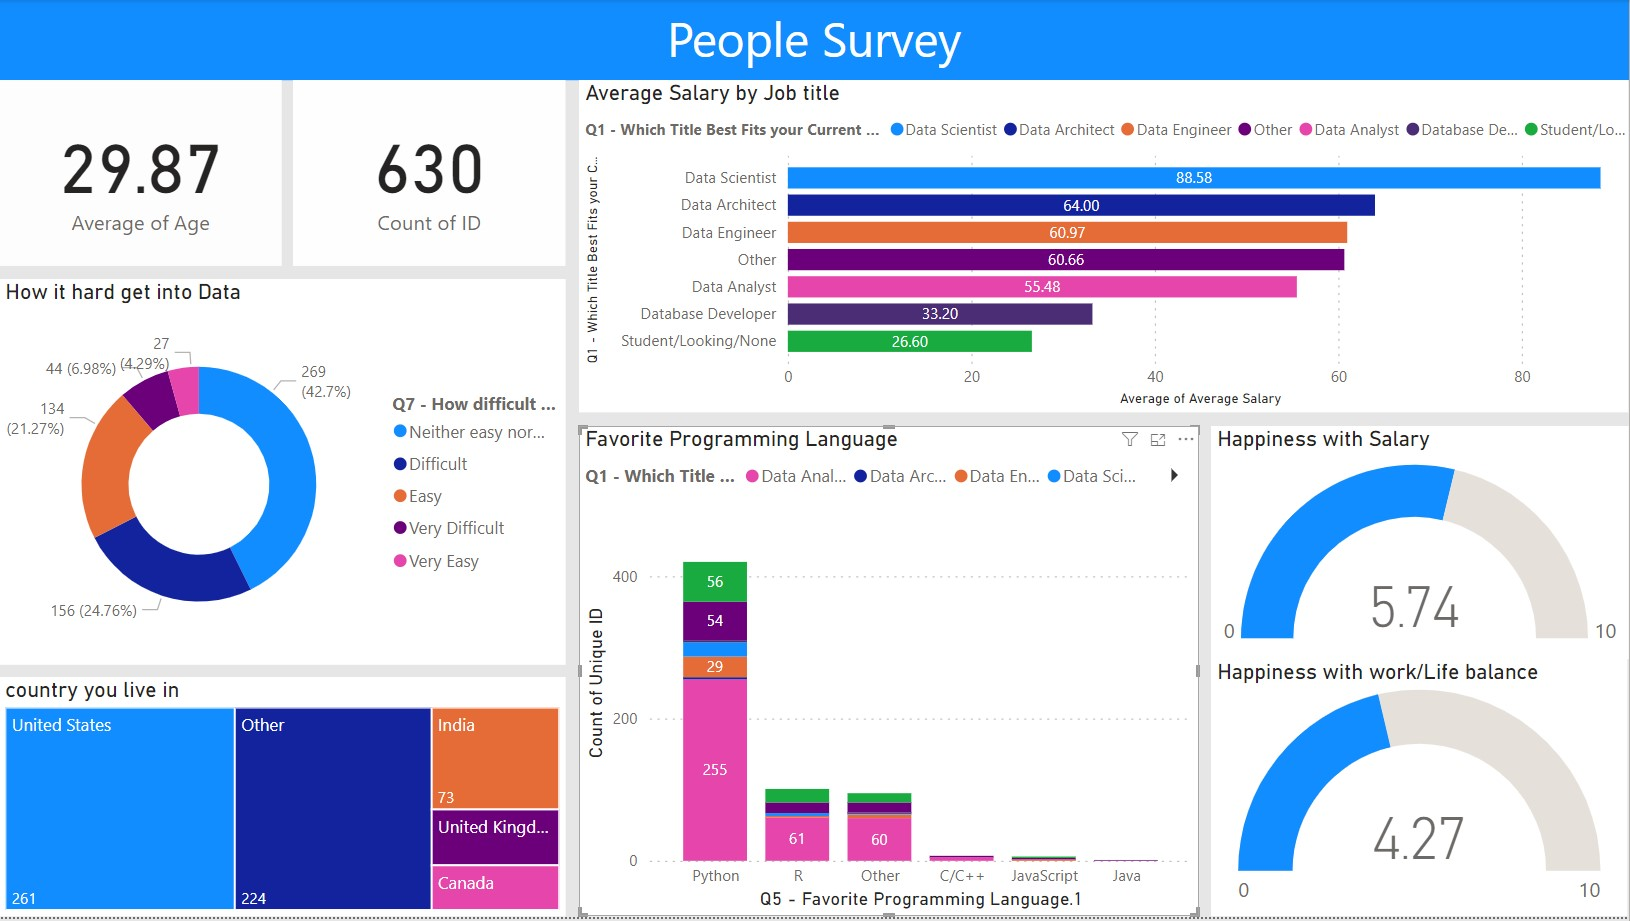

This screenshot's page, from the dashboard's own definition file:
{"tool":"powerbi","page":{"name":"Page 1","canvas":[1280,720],"ordinal":0},"visuals":[{"type":"textbox","box":[0,0,1280,63],"z":0},{"type":"card","fields":{"Values":["Avg(Data Professional Survey.Q10 - Current Age)"]},"box":[0,63,222.5,146.3],"z":1000},{"type":"card","fields":{"Values":["Count(Data Professional Survey.Unique ID)"]},"box":[230.8,63,214.1,146.3],"z":2000},{"type":"barChart","title":"Average Salary by Job title","fields":{"Category":["Data Professional Survey.Q1 - Which Title Best Fits your Current Role?.1"],"Series":["Data Professional Survey.Q1 - Which Title Best Fits your Current Role?.1"],"Y":["Avg(Data Professional Survey.Average Salary)"]},"box":[455.6,63,824.4,260.5],"z":3000},{"type":"treemap","title":"country you live in","fields":{"Group":["Data Professional Survey.Q11 - Which Country do you live in?.1"],"Values":["CountNonNull(Data Professional Survey.Q11 - Which Country do you live in?.1)"]},"box":[0,531.7,444.9,188],"z":4000},{"type":"gauge","title":"Happiness with Salary","fields":{"Y":["Avg(Data Professional Survey.Q6 - How Happy are you in your Current Position with the following? (Work/Life Balance))"],"MaxValue":["Max(Data Professional Survey.Q6 - How Happy are you in your Current Position with the following? (Work/Life Balance))1"],"MinValue":["Min(Data Professional Survey.Q6 - How Happy are you in your Current Position with the following? (Work/Life Balance))2"]},"box":[951.7,334.3,328.3,183.2],"z":5000},{"type":"gauge","title":"Happiness with work/Life balance","fields":{"Y":["Avg(Data Professional Survey.Q6 - How Happy are you in your Current Position with the following? (Salary))"],"MinValue":["Min(Data Professional Survey.Q6 - How Happy are you in your Current Position with the following? (Salary))"],"MaxValue":["Max(Data Professional Survey.Q6 - How Happy are you in your Current Position with the following? (Salary))"]},"box":[951.7,517.5,327.1,202.2],"z":6000},{"type":"columnChart","title":"Favorite Programming Language","fields":{"Y":["CountNonNull(Data Professional Survey.Unique ID)"],"Category":["Data Professional Survey.Q5 - Favorite Programming Language.1"],"Series":["Data Professional Survey.Q1 - Which Title Best Fits your Current Role?.1"]},"box":[455.5,334.5,486.9,384.8],"z":7000},{"type":"donutChart","title":"How it hard get  into Data","fields":{"Category":["Data Professional Survey.Q7 - How difficult was it for you to break into Data?"],"Y":["CountNonNull(Data Professional Survey.Q7 - How difficult was it for you to break into Data?)"]},"box":[0,218.9,444.9,303.3],"z":8000}]}

Visuals, with their boxes in screenshot pixels (x1, y1, x2, y2), scaled from the page's 1280x720 canvas onto the 1630x921 screenshot:
textbox: 0 0 1629 81
card - Avg(Data Professional Survey.Q10 - Current Age): 0 81 283 268
card - Count(Data Professional Survey.Unique ID): 294 81 567 268
"Average Salary by Job title" barChart: 580 81 1629 414
"country you live in" treemap: 0 680 567 920
"Happiness with Salary" gauge: 1212 428 1629 662
"Happiness with work/Life balance" gauge: 1212 662 1628 920
"Favorite Programming Language" columnChart: 580 428 1200 920
"How it hard get  into Data" donutChart: 0 280 567 668
